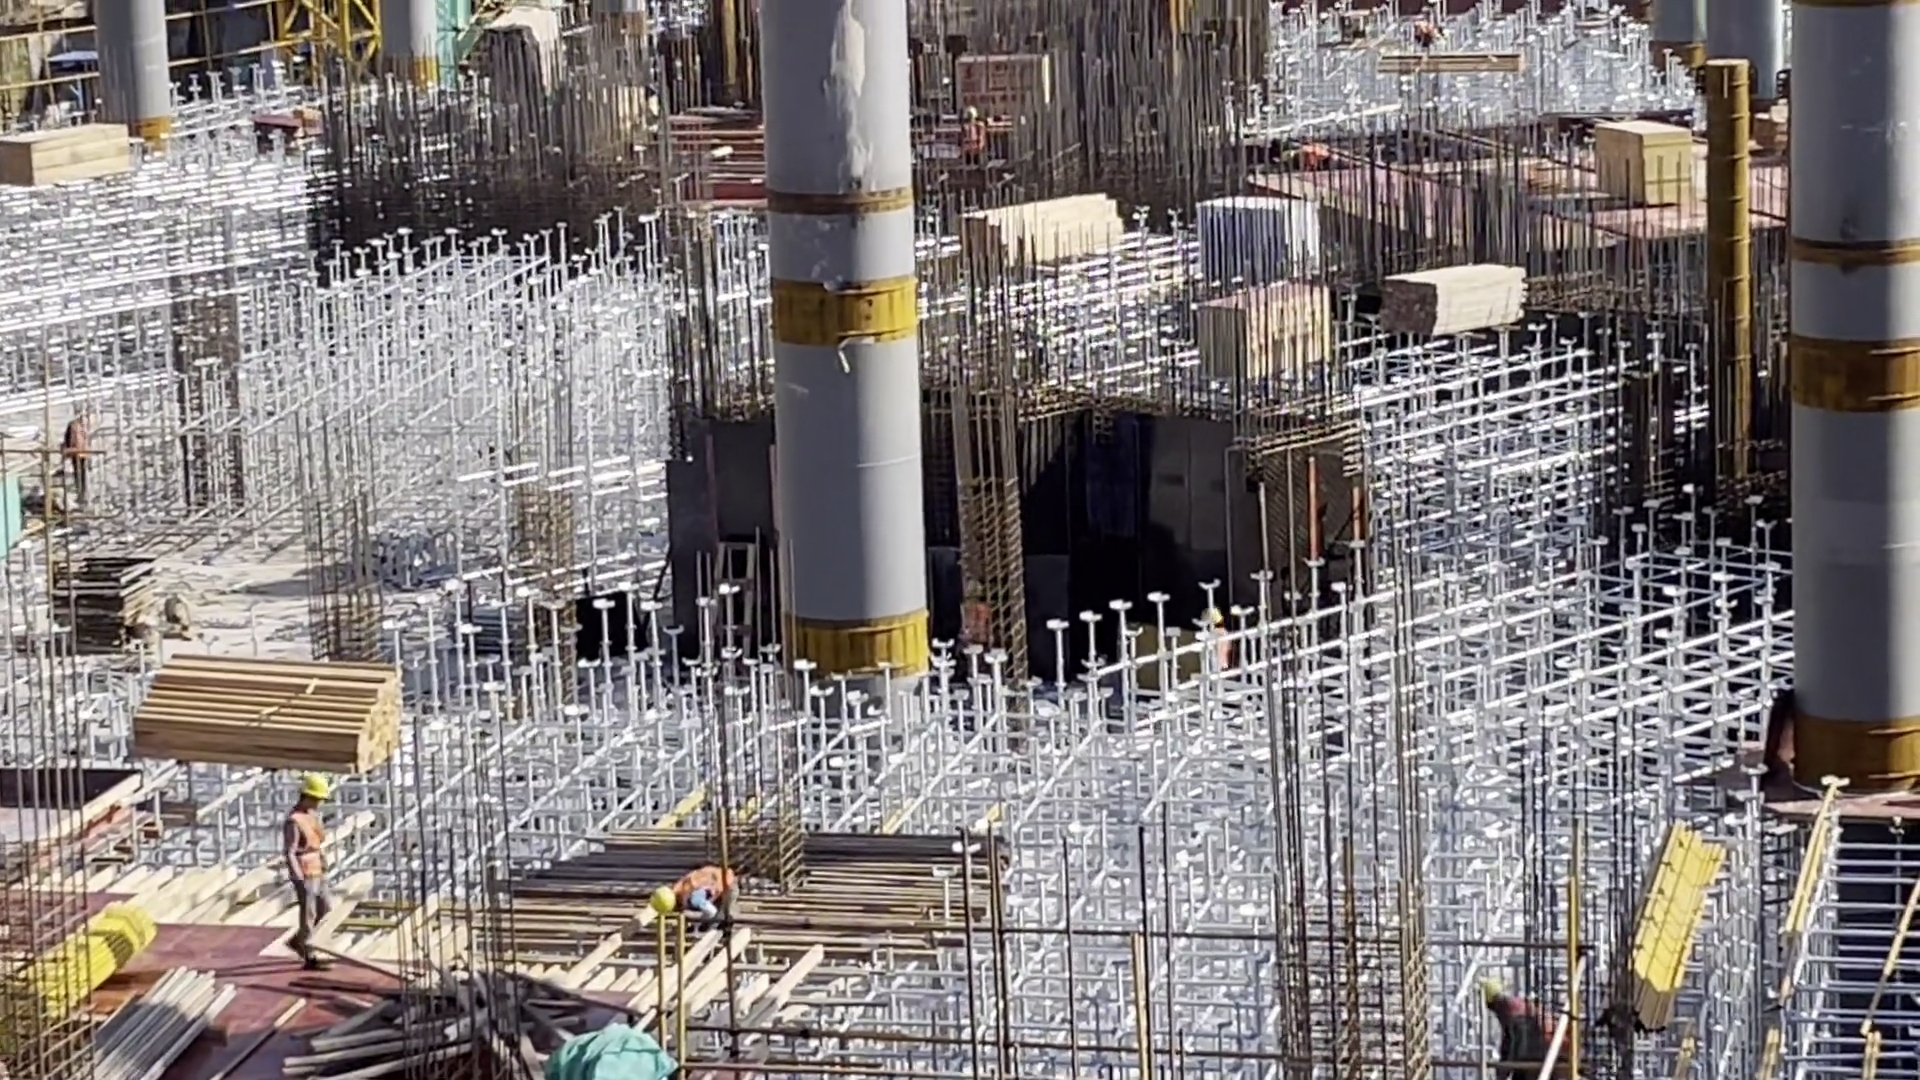board: (52, 544, 171, 653), (1588, 113, 1697, 215)
helmet: (642, 881, 683, 924), (299, 774, 334, 806), (1479, 976, 1508, 1011), (963, 104, 982, 125)
person: (272, 763, 343, 987), (638, 856, 755, 936), (1472, 970, 1545, 1076), (61, 418, 98, 518), (958, 97, 984, 194)
vest: (282, 806, 338, 892), (669, 859, 741, 915)
wood: (137, 653, 413, 773), (956, 181, 1123, 285), (1375, 260, 1534, 342), (4, 114, 137, 194)
